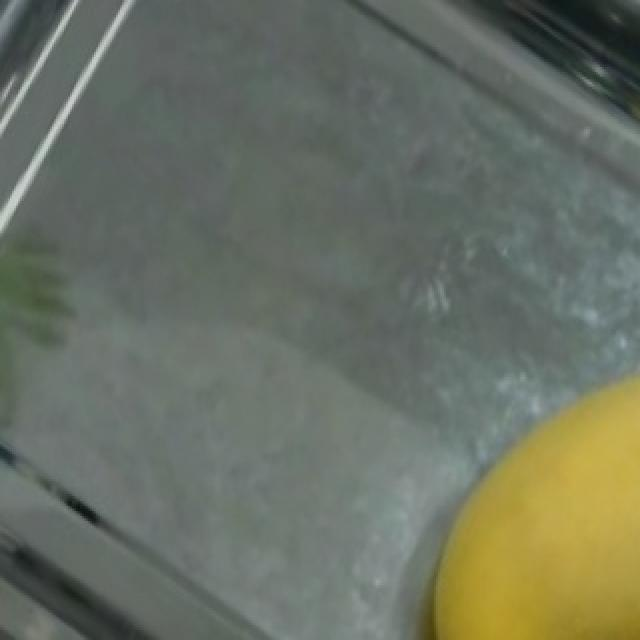fruit: (390, 330, 640, 640)
